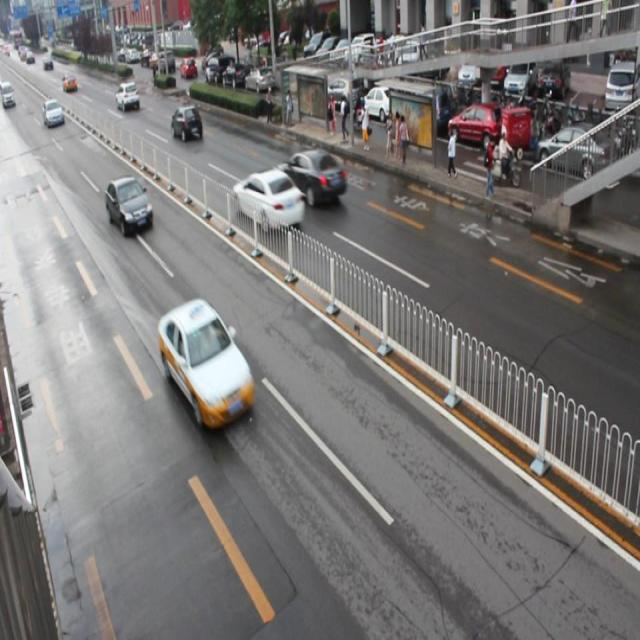car: (158, 298, 255, 431), (232, 168, 304, 234), (276, 147, 347, 207), (105, 174, 154, 235), (172, 104, 204, 143)
